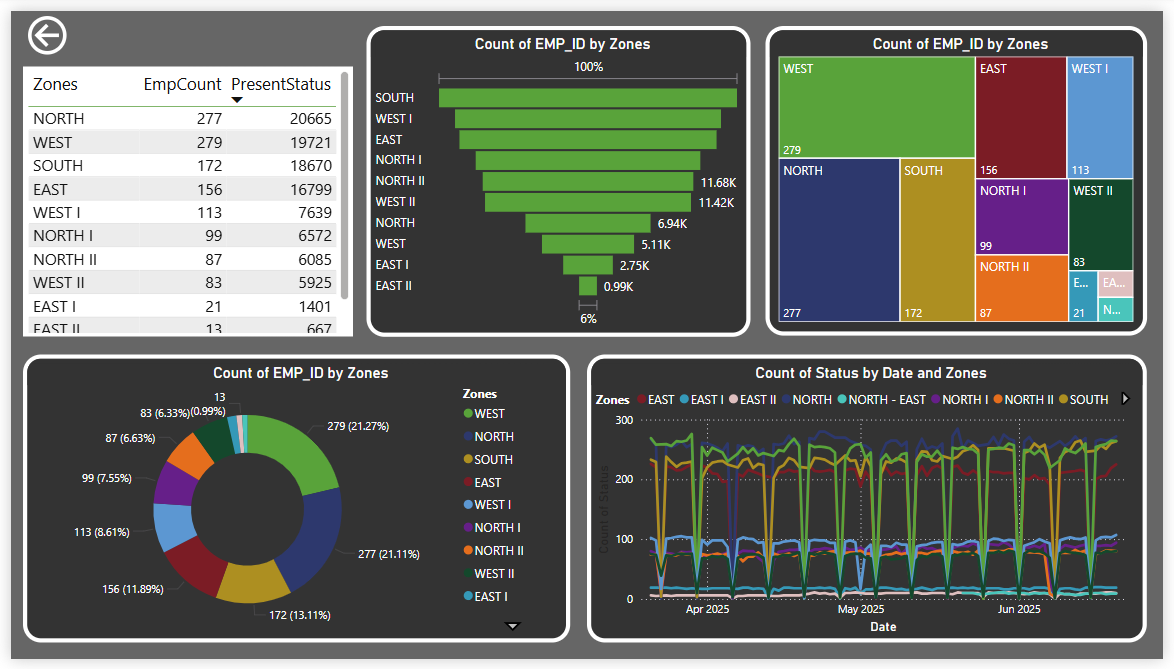

What the dashboard file says about the page in this screenshot:
{"tool":"powerbi","page":{"name":"Zones","canvas":[1280,720],"ordinal":2},"visuals":[{"type":"funnel","fields":{"Category":["BizomAttendance.Zones"],"Y":["CountNonNull(Unified_Attendance.EMP_ID)"]},"box":[395,16.7,426.7,345],"z":0},{"type":"donutChart","fields":{"Category":["Unified_Attendance.Zones"],"Y":["Count(Unified_Attendance.EMP_ID)"]},"box":[14,382,608,320],"z":1000},{"type":"tableEx","fields":{"Values":["Unified_Attendance.Zones","Count(Unified_Attendance.EMP_ID)","Unified_Attendance.Status"]},"box":[13.3,61.7,366.7,300],"z":2000},{"type":"treemap","fields":{"Group":["Unified_Attendance.Zones"],"Values":["Count(Unified_Attendance.EMP_ID)"]},"box":[838,16,424,344],"z":3000},{"type":"lineChart","fields":{"Category":["Unified_Attendance.Date"],"Series":["Unified_Attendance.Zones"],"Y":["CountNonNull(Unified_Attendance.Status)"]},"box":[640,382,622,320],"z":4000},{"type":"actionButton","box":[14,0,122,54],"z":6000}]}

Visuals, with their boxes in screenshot pixels (x1, y1, x2, y2), scaled from the page's 1280x720 canvas onto the 1174x669 screenshot:
funnel - BizomAttendance.Zones x CountNonNull(Unified_Attendance.EMP_ID): l=362, t=16, r=754, b=336
donutChart - Unified_Attendance.Zones x Count(Unified_Attendance.EMP_ID): l=13, t=355, r=570, b=652
tableEx - Unified_Attendance.Zones x Count(Unified_Attendance.EMP_ID): l=12, t=57, r=349, b=336
treemap - Unified_Attendance.Zones x Count(Unified_Attendance.EMP_ID): l=769, t=15, r=1157, b=334
lineChart - Unified_Attendance.Date x Unified_Attendance.Zones: l=587, t=355, r=1157, b=652
actionButton: l=13, t=0, r=125, b=50
